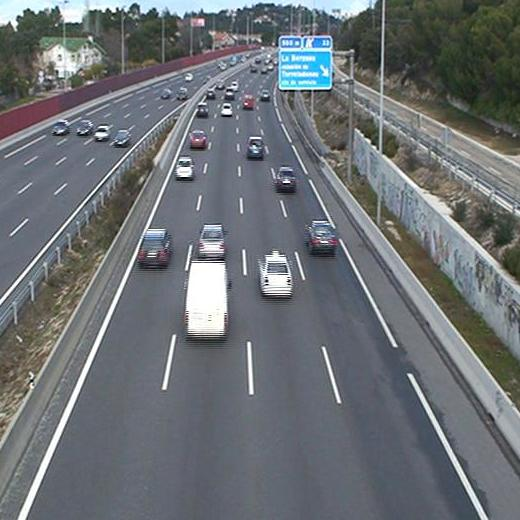car: (260, 254, 292, 298), (138, 229, 169, 267), (198, 223, 226, 258), (307, 220, 335, 253), (276, 167, 296, 192), (174, 157, 194, 179), (247, 135, 264, 157), (187, 130, 206, 148), (196, 100, 207, 117), (221, 103, 232, 117)
van: (184, 261, 226, 337), (242, 93, 254, 110)
